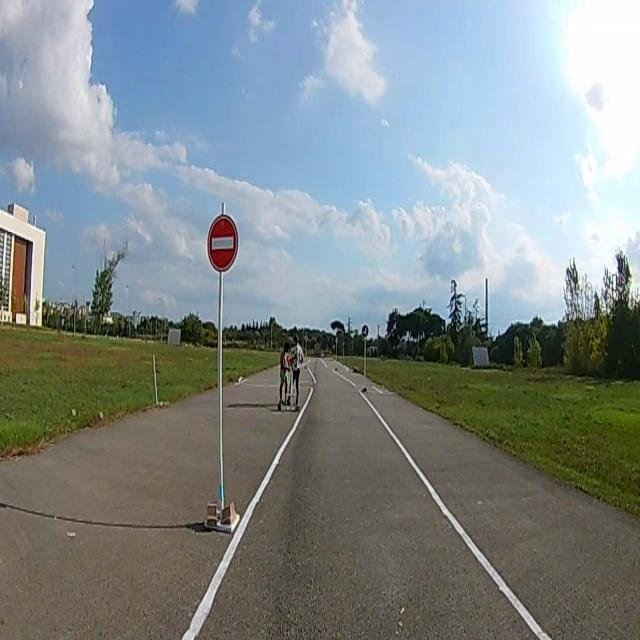girisyok: (208, 218, 236, 266)
